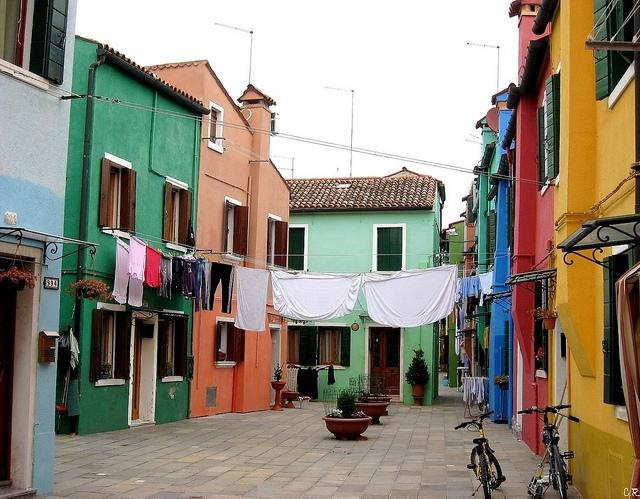non-vehicle: (517, 403, 578, 498), (453, 410, 506, 498)
